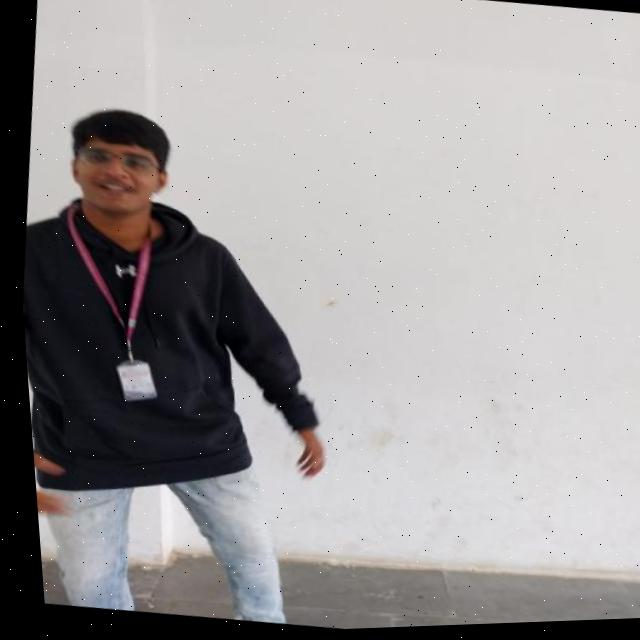id_card: (38, 185, 181, 403)
